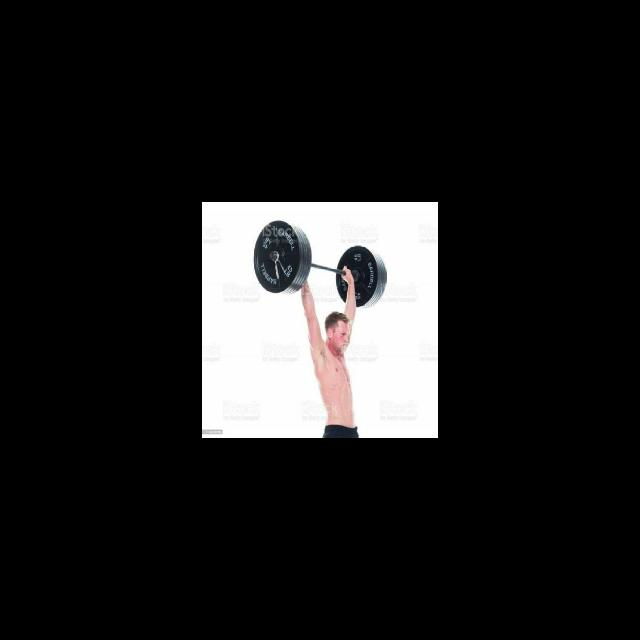barbell: (253, 216, 314, 300)
